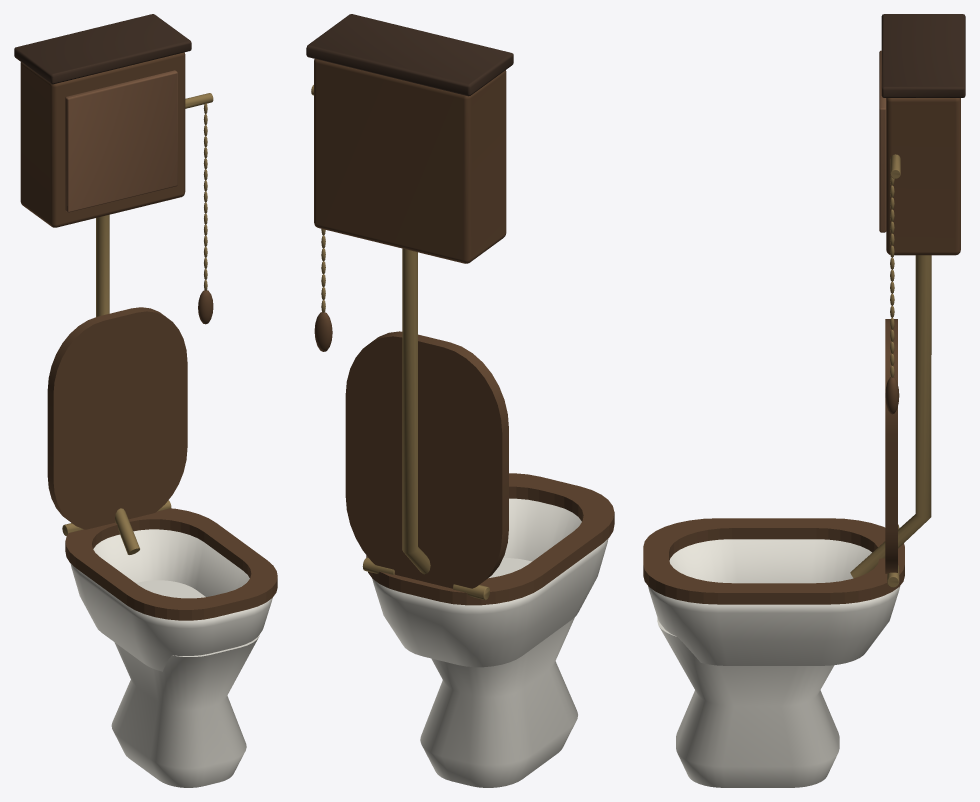
Rendered from kominka-toilet-01.glb.
3 renders of one model, left to right at view 1: azimuth 30°, elevation 25°; view 2: azimuth 150°, elevation 25°; view 3: azimuth 270°, elevation 25°, orthographic. The views are drawn at different scales.
Visible parts, largest first — view 1: kominka-toilet-01; view 2: kominka-toilet-01; view 3: kominka-toilet-01.
Boxes of the visible parts, box(x1,y1,x2,y2) form: kominka-toilet-01: box(14, 14, 277, 787); kominka-toilet-01: box(306, 14, 614, 787); kominka-toilet-01: box(643, 14, 965, 787).
Size of the model in its own units: 0.42 by 1.6 by 0.65.
